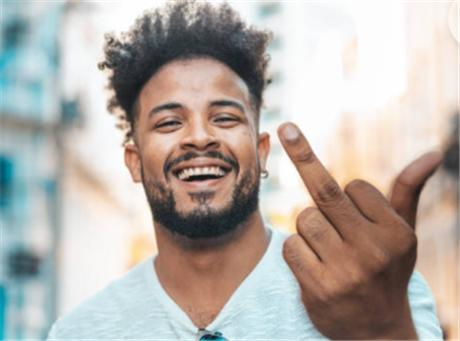insulting_gesture: (275, 121, 445, 341)
